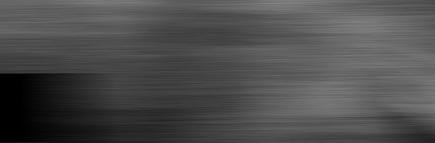Airbag: (0, 0, 435, 143), (411, 0, 435, 143)
